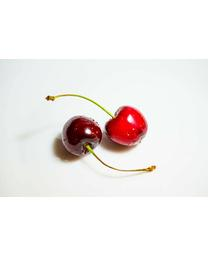cherry: (104, 105, 149, 147), (62, 115, 102, 157)
